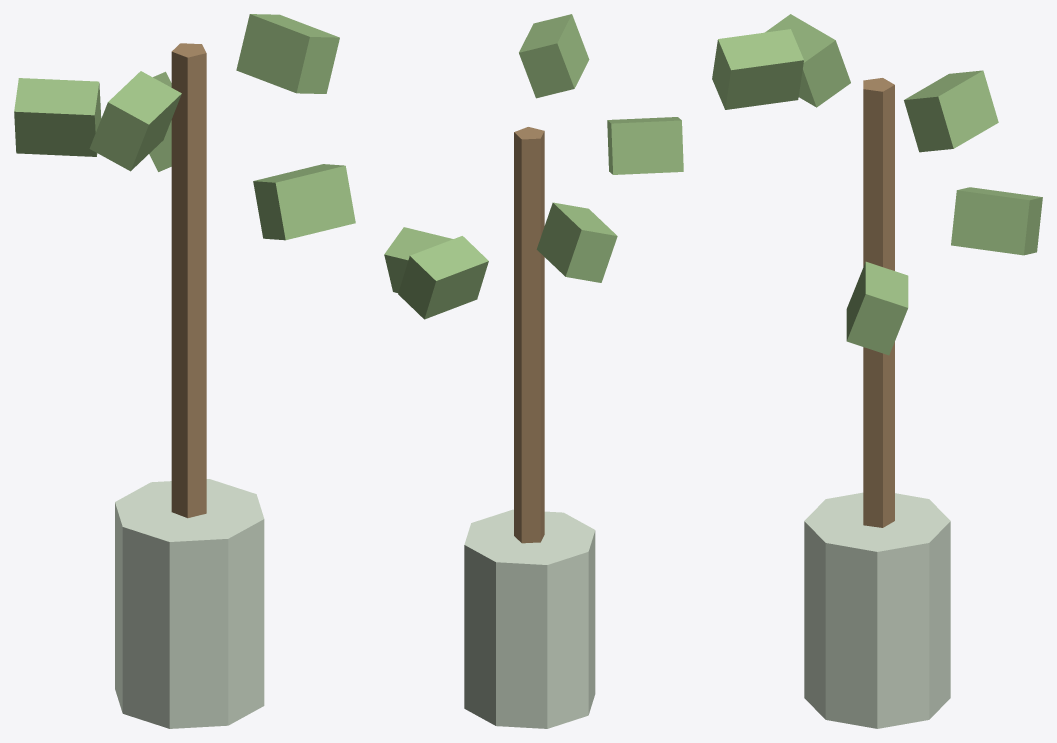
File: plant_tall.glb
3 renders of one model, left to right at view 1: azimuth 30°, elevation 25°; view 2: azimuth 150°, elevation 25°; view 3: azimuth 270°, elevation 25°, orthographic. The views are drawn at different scales.
Visible parts, largest first — view 1: Plant_Tall; view 2: Plant_Tall; view 3: Plant_Tall.
Boxes of the visible parts, x1=… form: Plant_Tall: x1=14, y1=14, x2=355, y2=728; Plant_Tall: x1=384, y1=14, x2=683, y2=728; Plant_Tall: x1=712, y1=14, x2=1042, y2=728.
Size of the model in its own units: 0.4511 by 1.07 by 0.4743.
